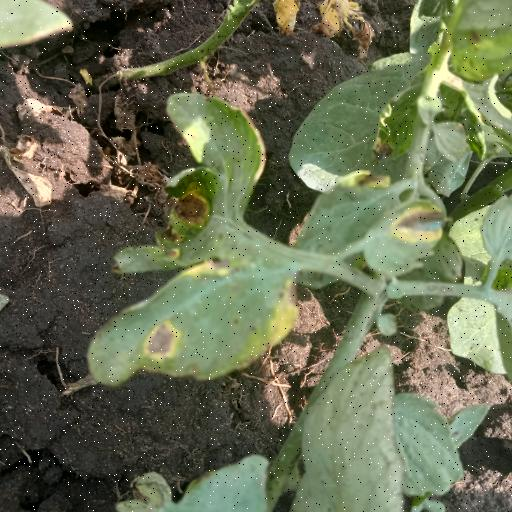Tomato_Brown_Spots: (86, 90, 308, 396)
